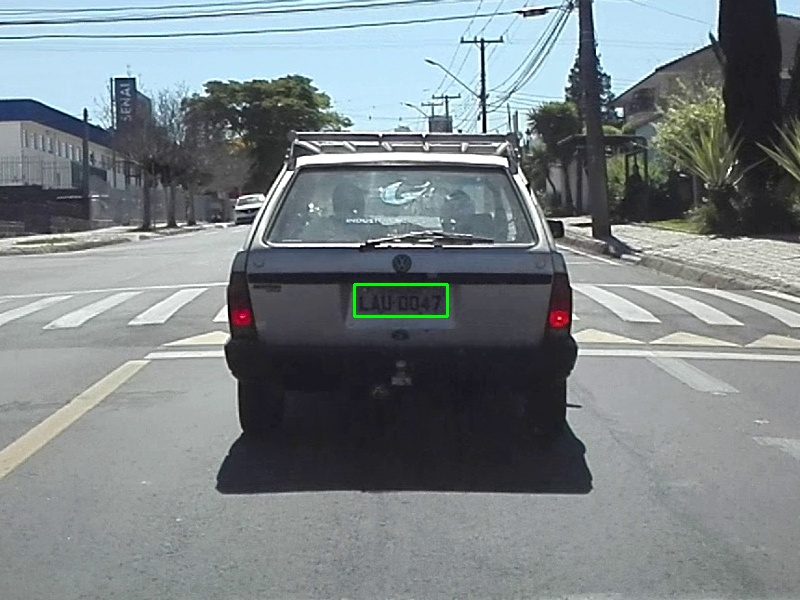placa: (354, 284, 447, 316)
